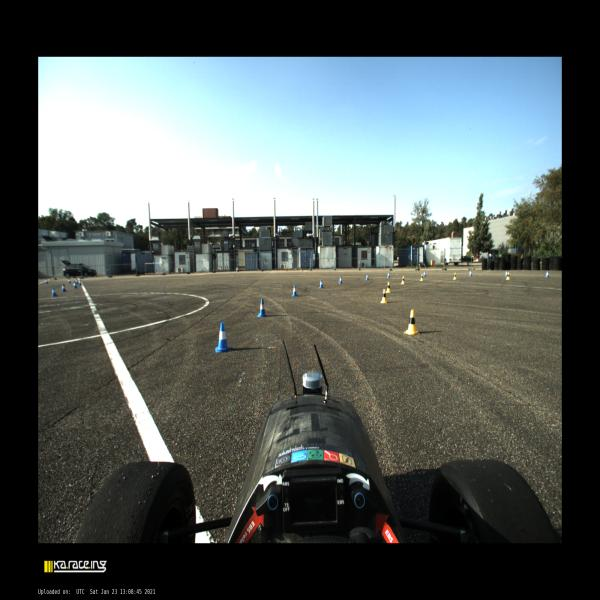blue_cone: (215, 322, 231, 353), (257, 298, 267, 317), (51, 286, 58, 296), (292, 284, 297, 296), (319, 280, 324, 288), (62, 283, 66, 292), (73, 281, 78, 288), (545, 271, 549, 278), (365, 274, 369, 280), (339, 276, 342, 284), (78, 280, 82, 286), (469, 270, 472, 276), (423, 271, 426, 277), (68, 278, 71, 284), (387, 273, 390, 278), (75, 279, 78, 284), (505, 270, 507, 276), (45, 280, 48, 284)
yellow_cone: (404, 310, 419, 335), (380, 289, 388, 303), (386, 282, 391, 292), (506, 272, 510, 280), (453, 272, 457, 280), (400, 276, 404, 284), (420, 274, 424, 281)
